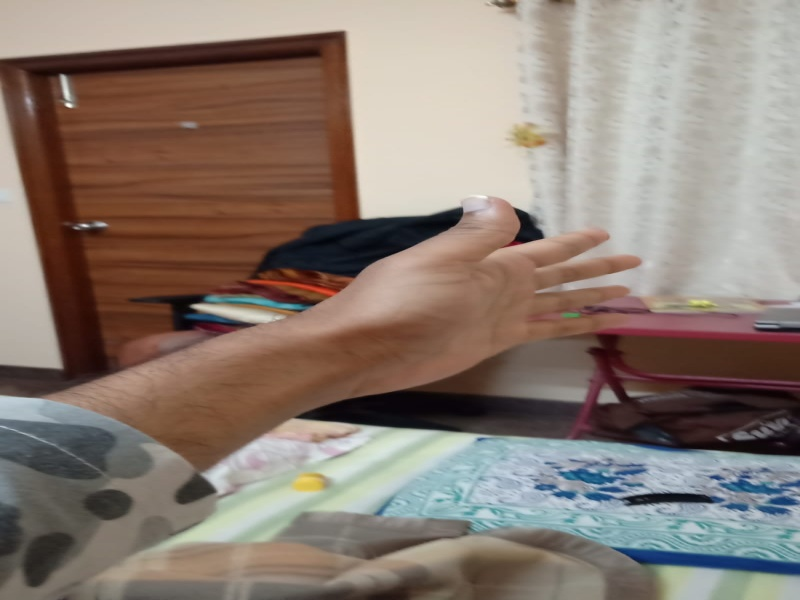Hand: (262, 186, 648, 409)
